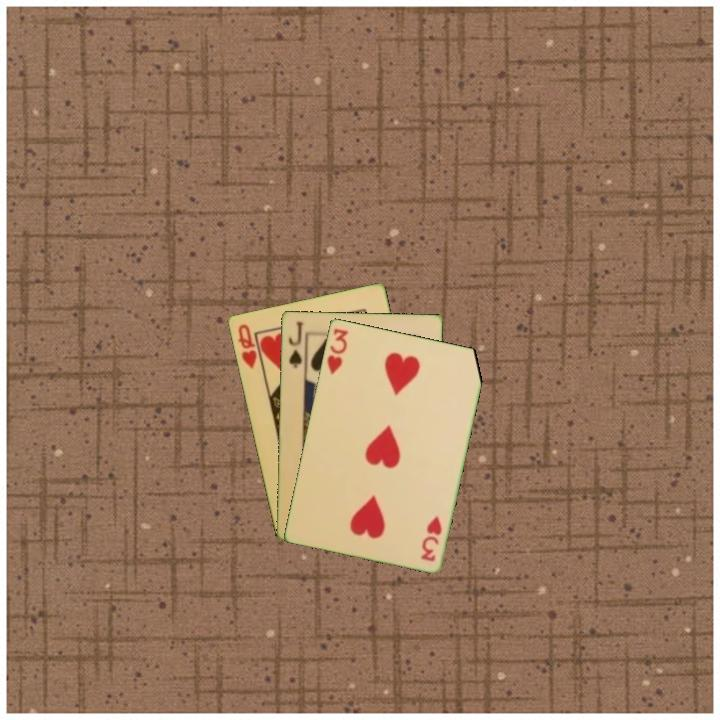3h: (323, 325, 351, 377), (417, 512, 445, 564)
Js: (285, 318, 306, 370)
Qh: (234, 320, 259, 372)
